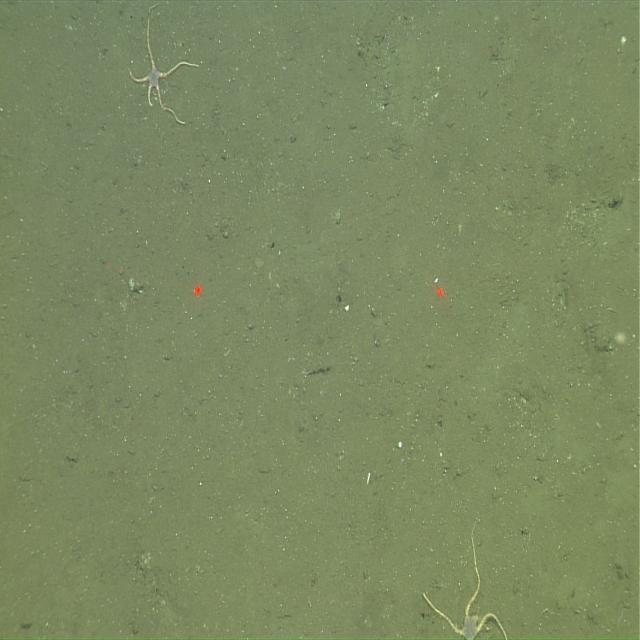Brittle Star: (416, 514, 520, 640), (124, 10, 205, 135)
